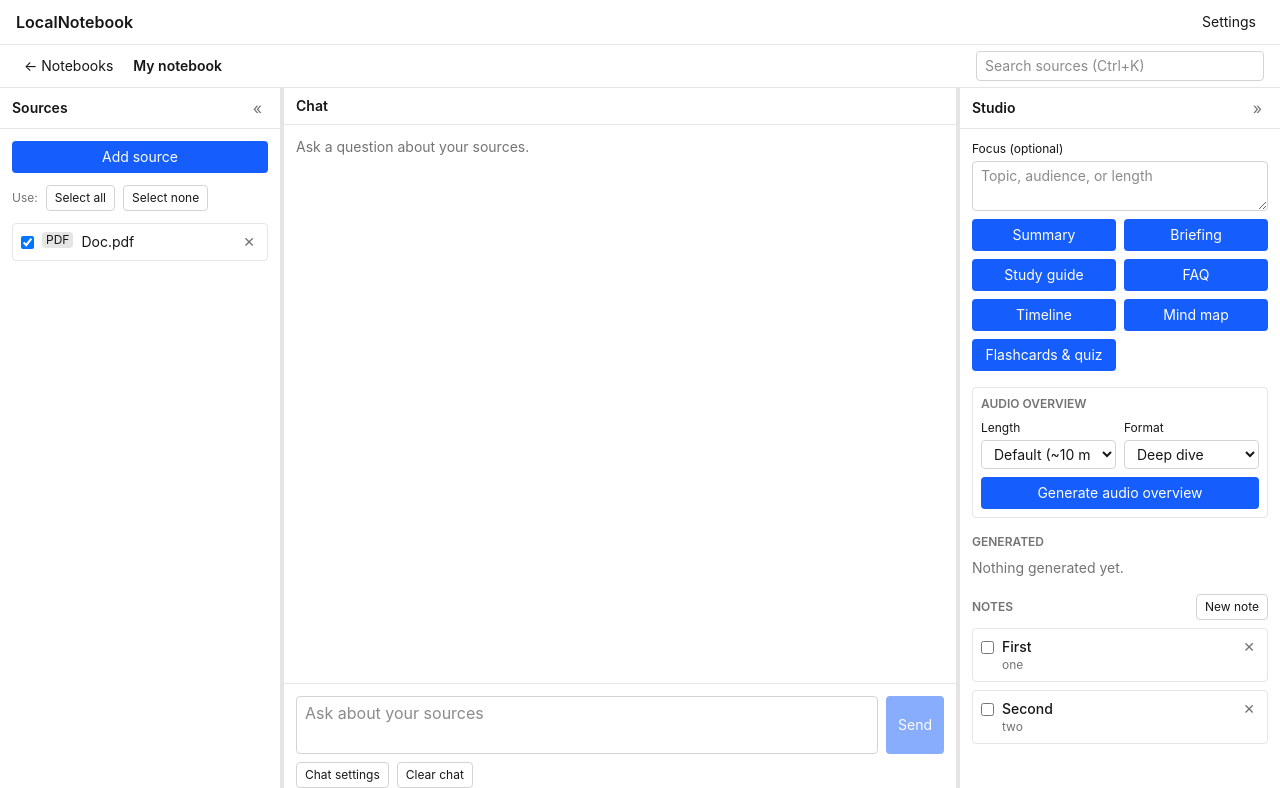
Test case: runs Summarize, Combine and Convert on selected notes
The width and height of the screenshot is (1280, 788).
Click the checkbox named "Select note First" at coordinates (988, 648), box [981,641,994,654]
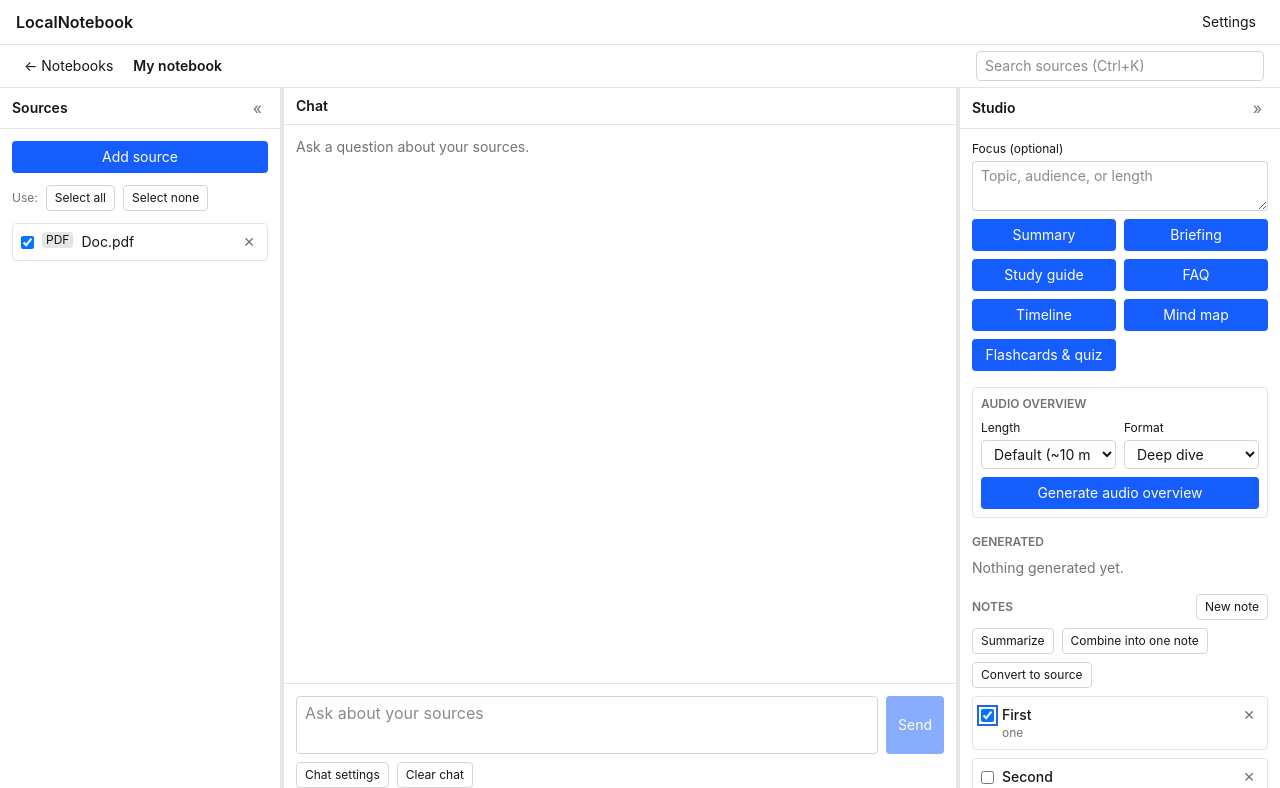
Click the checkbox named "Select note Second" at coordinates (988, 778), box [981,771,994,784]
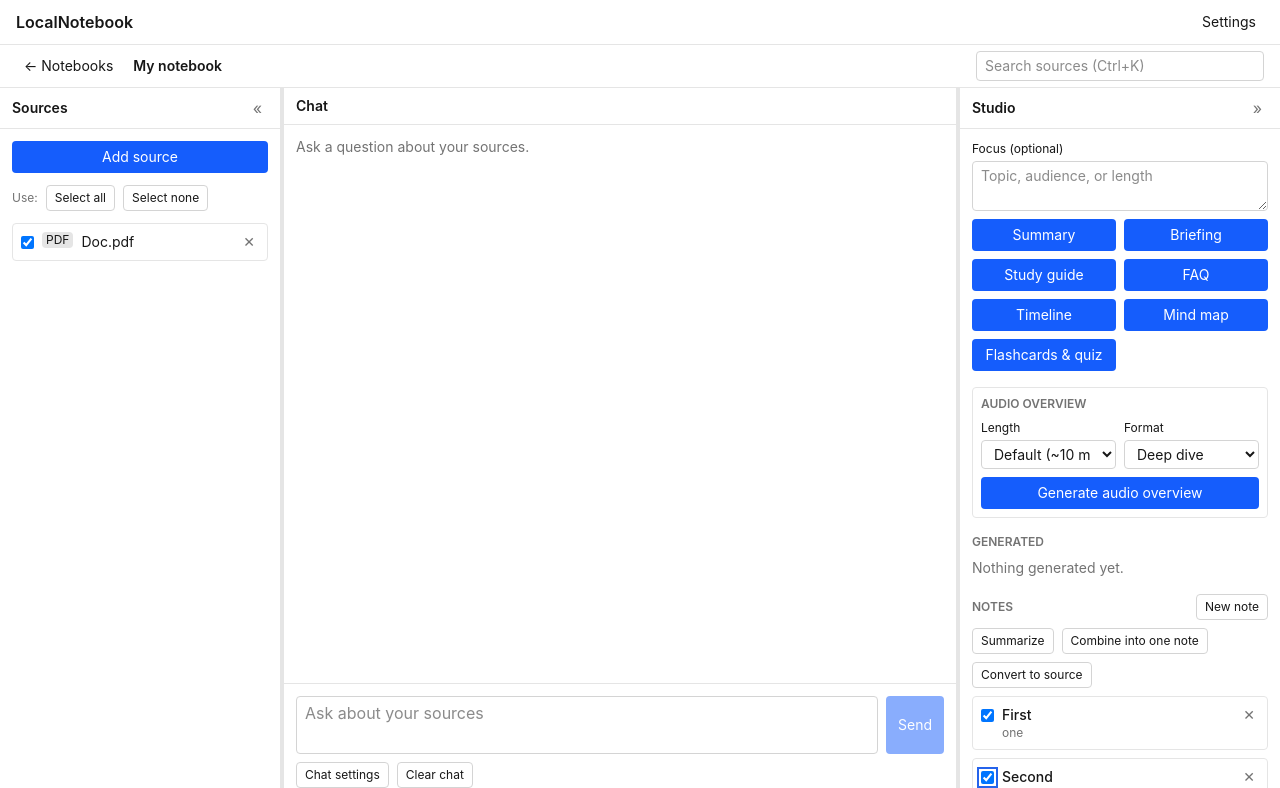
Click the button "Convert to source" at coordinates (1032, 675), box [972,662,1092,688]
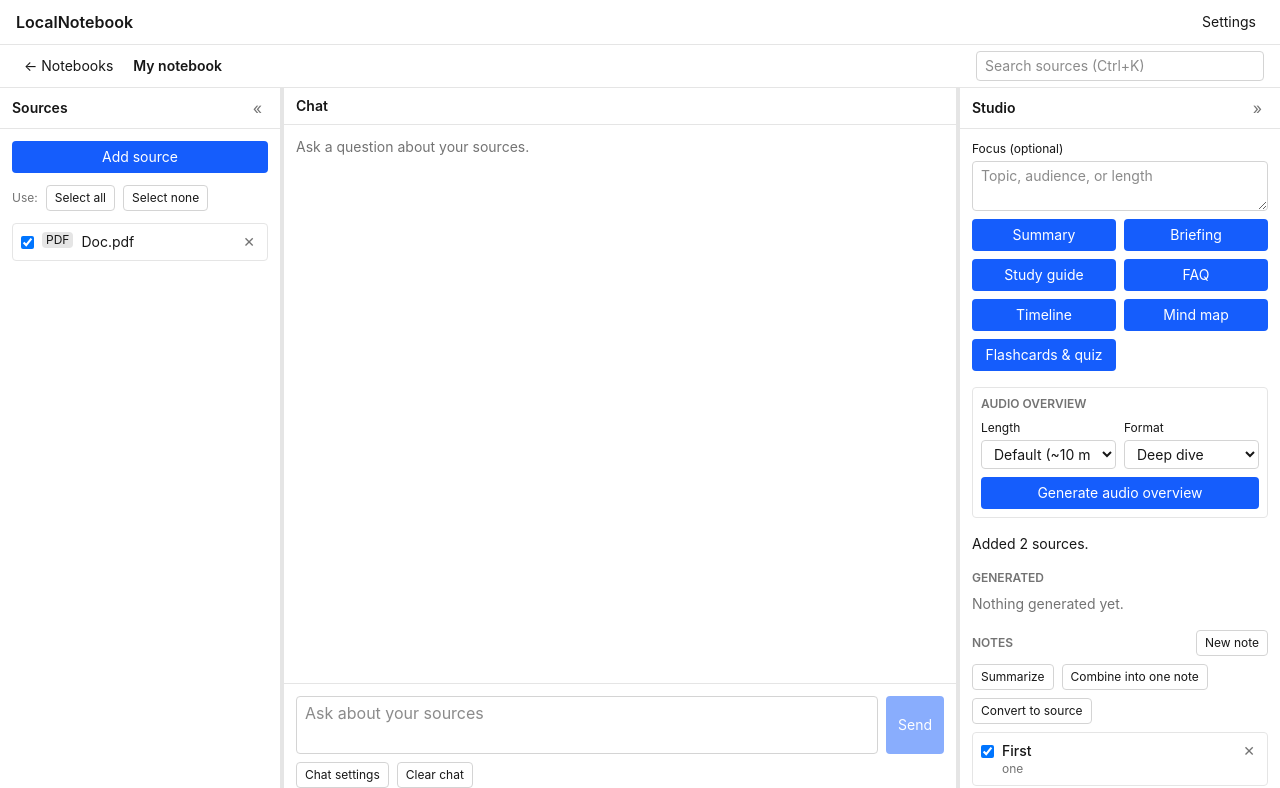
Expected: the text "Added 2 sources." is shown, [972,535,1089,552]
Click the button "Summarize" at coordinates (1013, 677), box [972,664,1054,690]
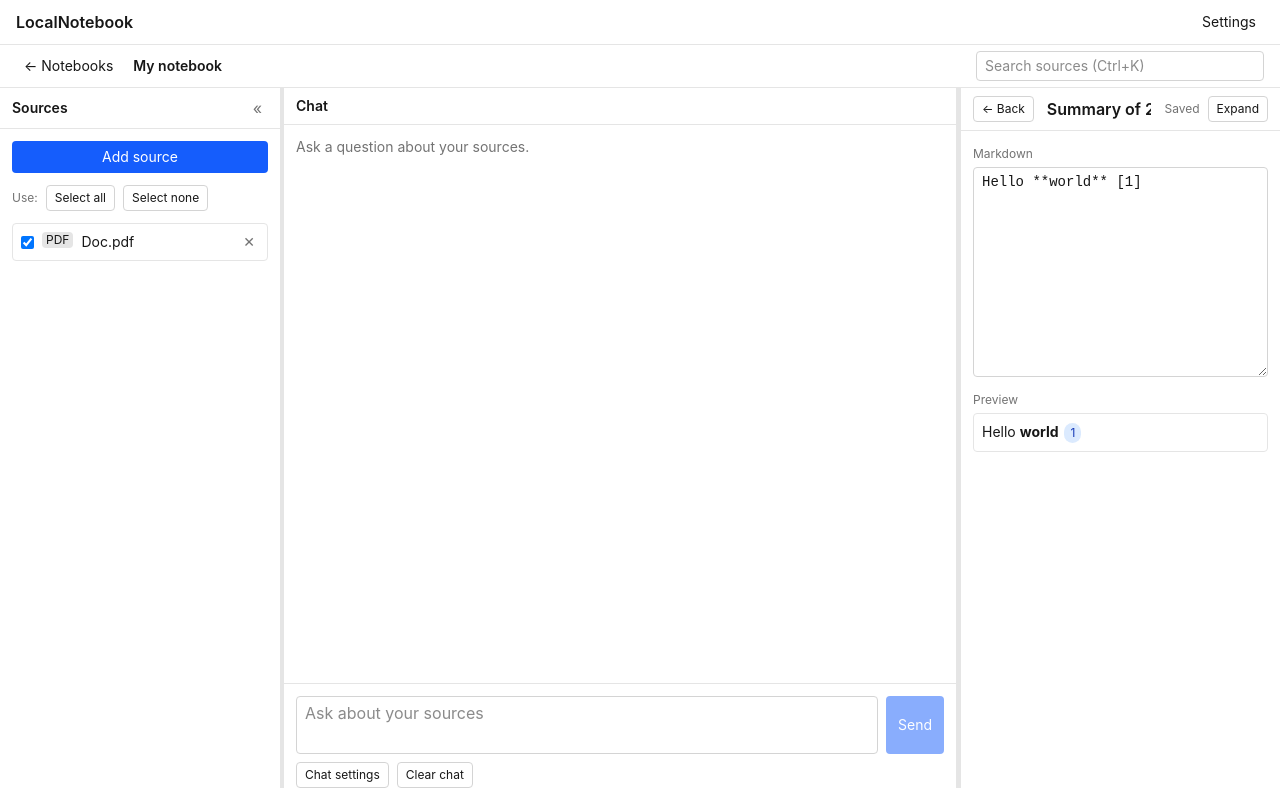
Expected: the field showing "Summary of 2 notes" is shown, [1042,96,1156,122]
